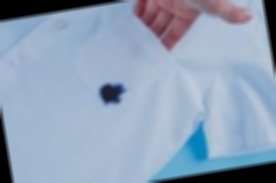ink: (98, 81, 127, 107)
